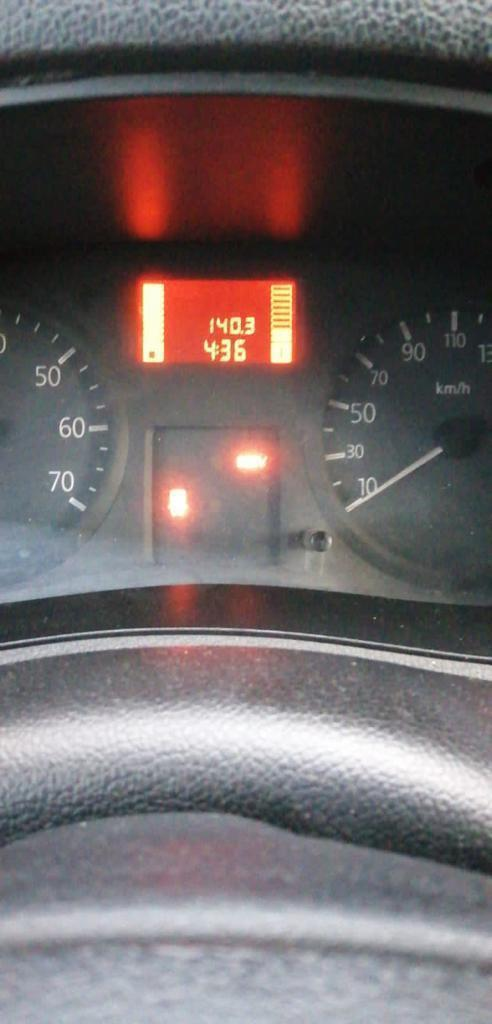,: (240, 329, 244, 335)
0: (229, 315, 240, 335)
1: (208, 315, 213, 334)
3: (220, 337, 231, 361), (245, 315, 255, 335)
4: (202, 338, 215, 361), (215, 316, 227, 334)
6: (233, 337, 246, 362)
X: (216, 342, 219, 355)
odometer: (132, 271, 304, 369)
